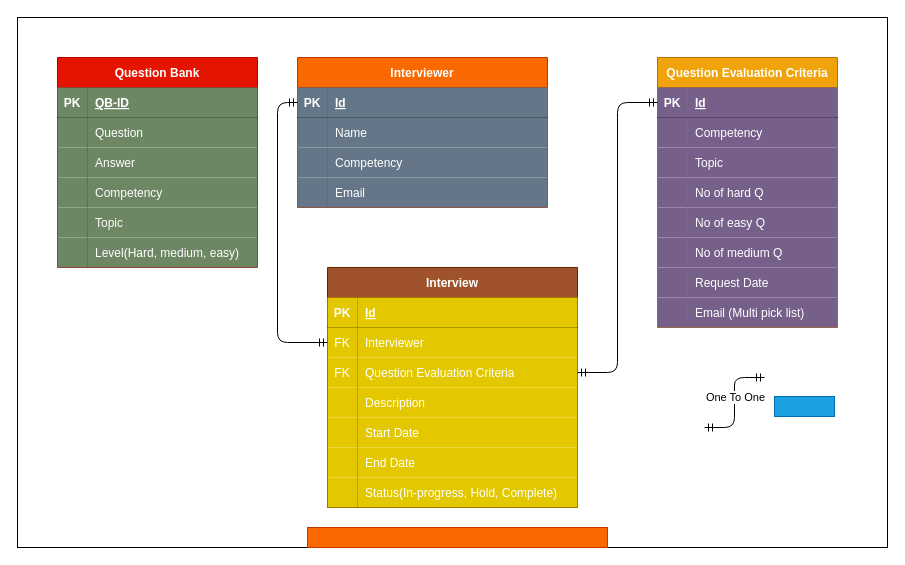
The diagram is 905 pixels wide and 565 high, and some of its shapes have lost their labels. The centre of each missing label's shape, as x and y in pixels:
Interview Questionnaire Picker Data Model: the point at 457,537
Lookup: the point at 804,406
